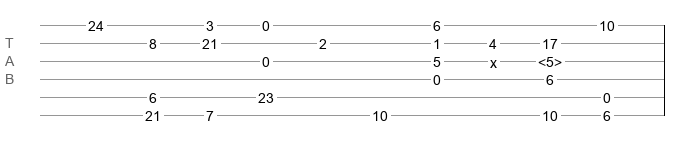0: (262, 54, 270, 64), (262, 18, 270, 28), (433, 72, 441, 82), (603, 90, 611, 100)
1: (433, 36, 441, 46)
10: (372, 108, 388, 118), (542, 108, 558, 118), (599, 18, 615, 28)
17: (542, 36, 558, 46)
2: (319, 36, 327, 46)
21: (145, 108, 161, 118), (202, 36, 218, 46)
23: (258, 90, 274, 100)
24: (88, 18, 104, 28)
3: (206, 18, 214, 28)
4: (489, 36, 497, 46)
5: (433, 54, 441, 64)
6: (149, 90, 157, 100), (433, 18, 441, 28), (546, 72, 554, 82), (603, 108, 611, 118)
7: (206, 108, 214, 118)
8: (149, 36, 157, 46)
harmonic: (538, 54, 562, 64)
x: (490, 55, 497, 63)
